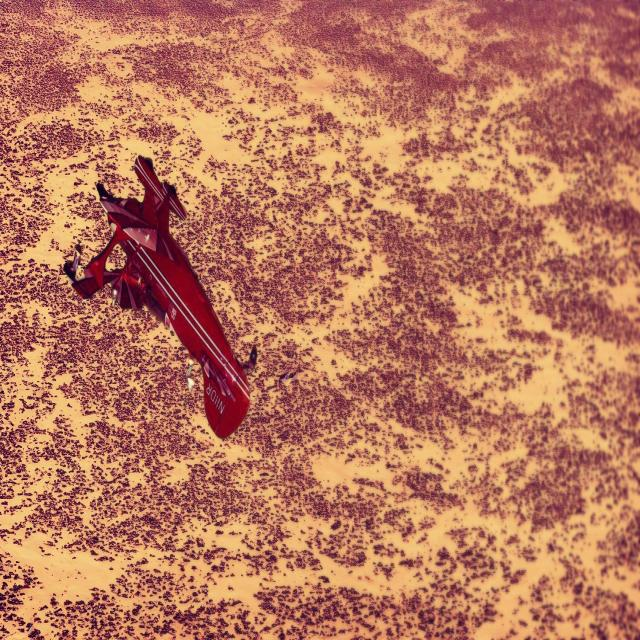airplane: (62, 154, 256, 439)
